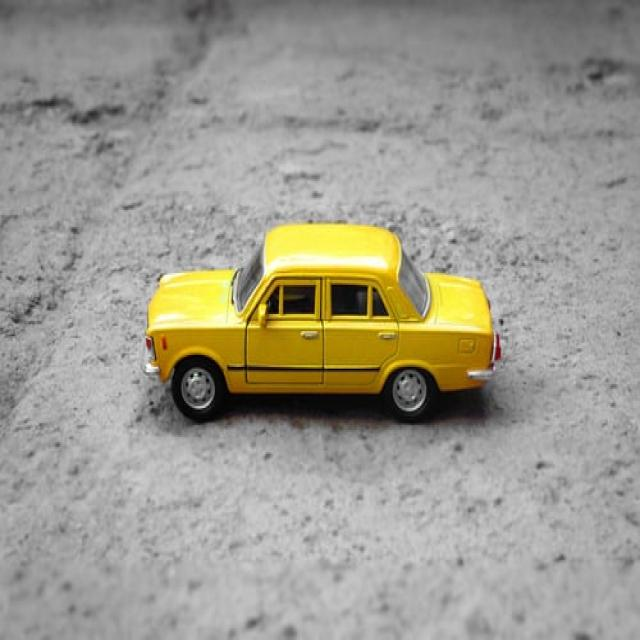Car: (142, 220, 502, 423)
